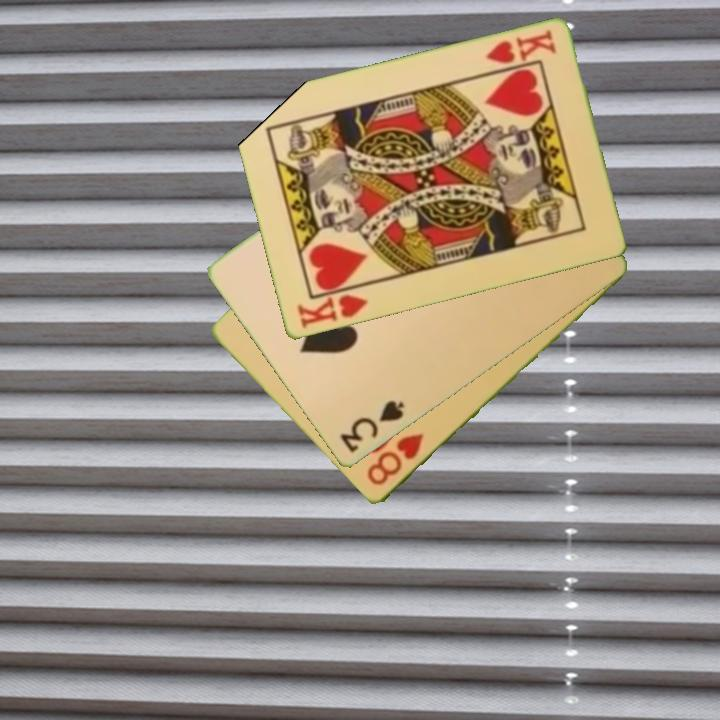3s: (336, 397, 408, 456)
8h: (363, 430, 427, 489)
Kh: (293, 282, 371, 332), (482, 27, 559, 68)
